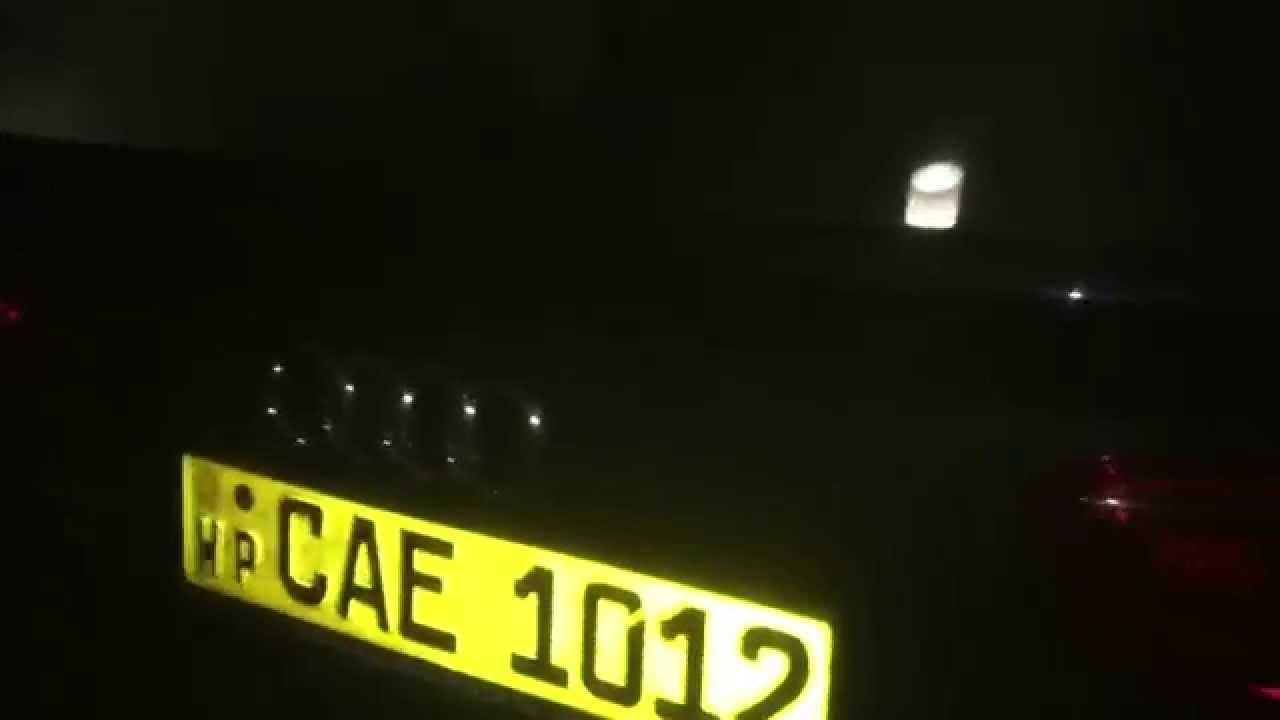license-plate: (177, 451, 831, 719)
